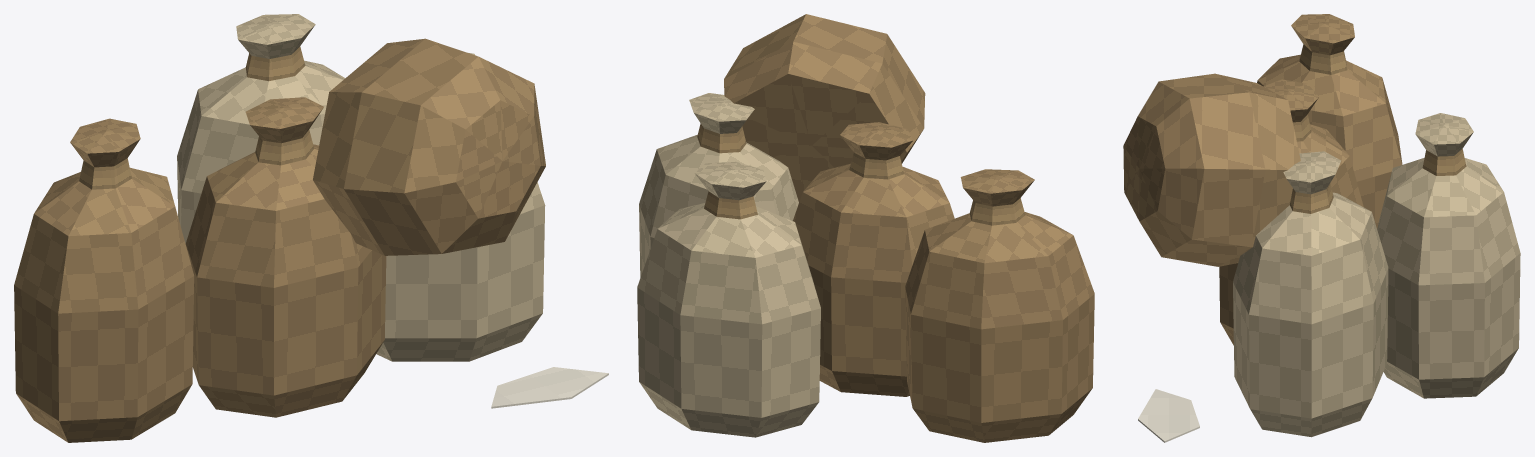
The model's file is sack-pile.glb.
The picture shows the model from 3 angles, left to right: view 1: azimuth 30°, elevation 25°; view 2: azimuth 150°, elevation 25°; view 3: azimuth 270°, elevation 25°; orthographic projection. The views are drawn at different scales.
Visible parts, largest first — view 1: sack-pile.001; view 2: sack-pile.001; view 3: sack-pile.001.
Part boxes in pixels (bbox=[...]): sack-pile.001: bbox=[14, 14, 608, 442]; sack-pile.001: bbox=[637, 14, 1094, 442]; sack-pile.001: bbox=[1123, 14, 1520, 442].
Size of the model in its own units: 1.15 by 0.7337 by 0.8955.
Materials: 1 (1 with a texture image).
